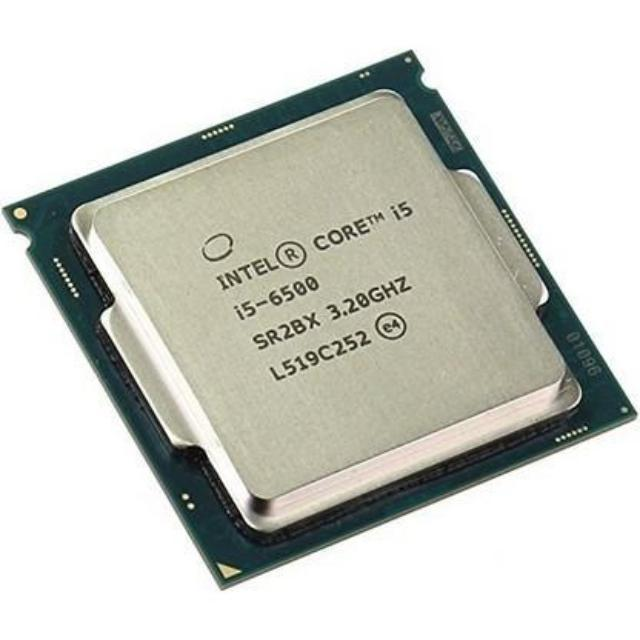CPU: (66, 94, 580, 511)
